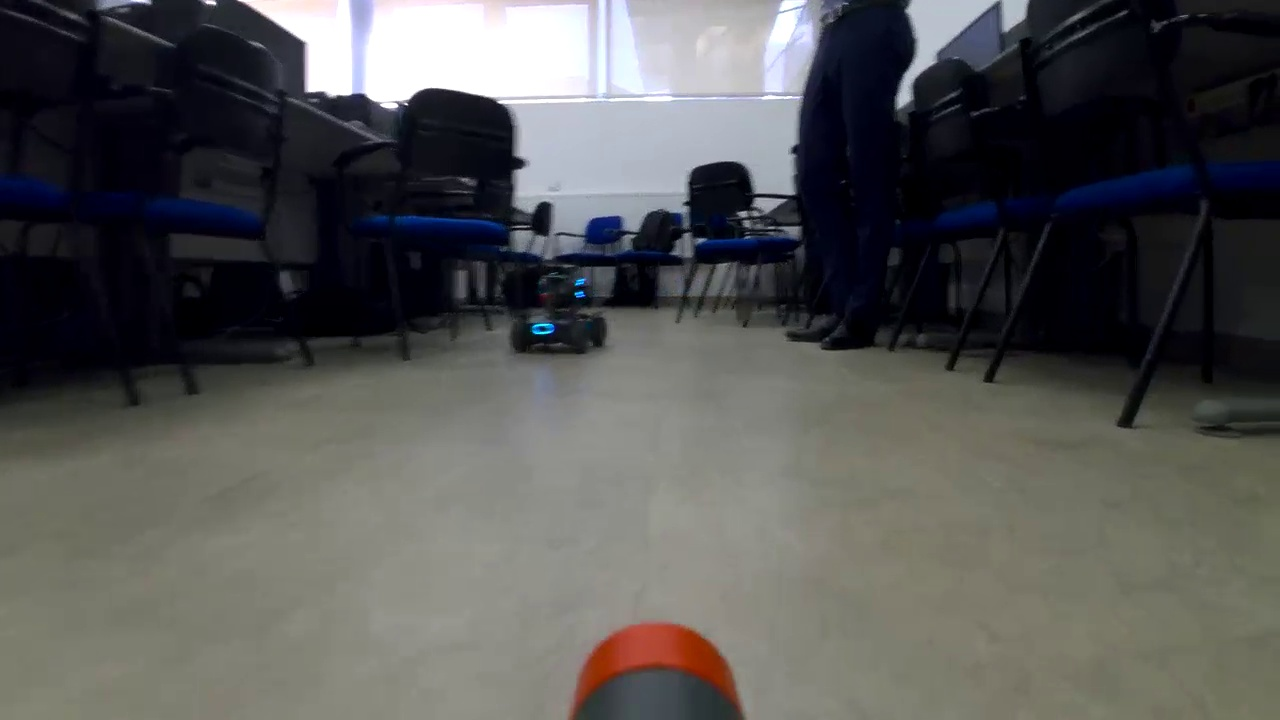robot: (509, 260, 613, 357)
